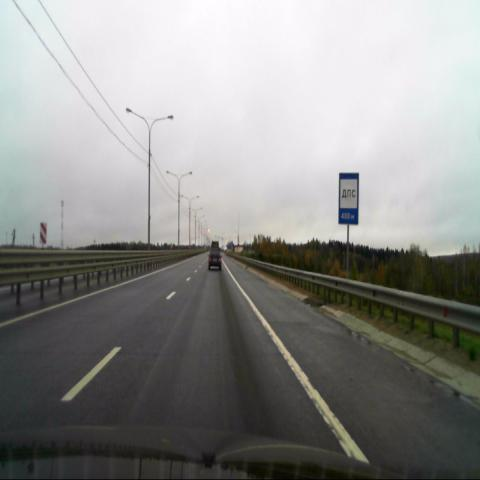7_12: (338, 172, 358, 224)
